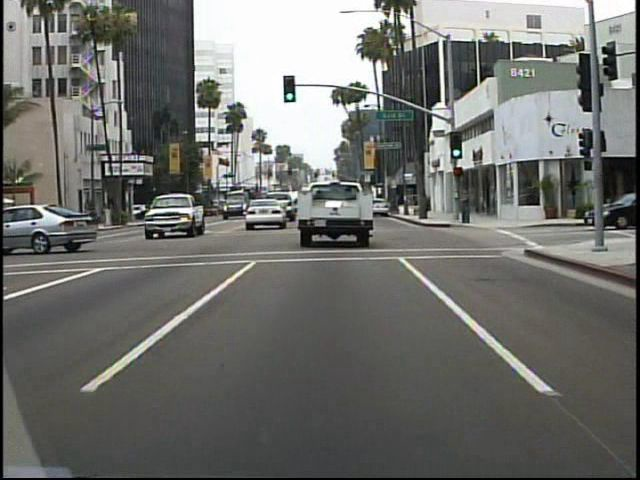person: (457, 181, 475, 227)
